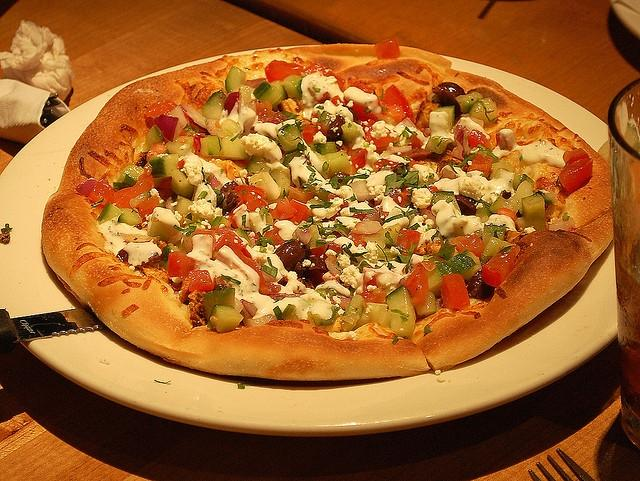tomato: (114, 162, 154, 208), (482, 245, 516, 288), (380, 84, 416, 124), (558, 158, 594, 192), (75, 180, 115, 208), (404, 263, 428, 308), (440, 273, 470, 309), (214, 230, 252, 258), (264, 60, 306, 84), (145, 114, 179, 142), (450, 234, 486, 259), (234, 185, 268, 211), (400, 134, 430, 162), (144, 100, 190, 118), (168, 251, 196, 278), (268, 196, 298, 220), (350, 102, 380, 126), (397, 230, 422, 256), (365, 128, 399, 147), (468, 152, 492, 178), (132, 196, 160, 218), (310, 241, 342, 260), (188, 270, 215, 292), (290, 200, 313, 223), (376, 38, 400, 60), (348, 148, 368, 172), (324, 69, 346, 90), (107, 187, 133, 204), (360, 288, 388, 302), (224, 92, 240, 116), (468, 130, 488, 148), (348, 232, 367, 248), (392, 192, 410, 208), (302, 127, 318, 144), (255, 100, 272, 114), (366, 274, 378, 288), (113, 188, 119, 192)
vegetable marrow: (385, 284, 416, 337), (200, 134, 250, 160), (443, 249, 482, 280), (204, 288, 235, 321), (261, 170, 290, 204), (208, 305, 244, 332), (202, 90, 228, 125), (521, 194, 546, 230), (468, 97, 498, 125), (512, 180, 534, 214), (323, 152, 351, 178), (277, 123, 302, 152), (149, 154, 179, 178), (171, 170, 194, 200), (254, 81, 282, 105), (414, 291, 438, 318), (455, 92, 483, 114), (484, 237, 516, 256), (425, 136, 457, 154), (226, 66, 246, 92), (98, 202, 121, 224), (247, 155, 270, 175), (284, 74, 302, 99), (123, 166, 144, 187), (118, 208, 142, 226), (174, 196, 193, 216), (315, 142, 338, 155), (479, 199, 492, 210), (480, 253, 488, 266)
